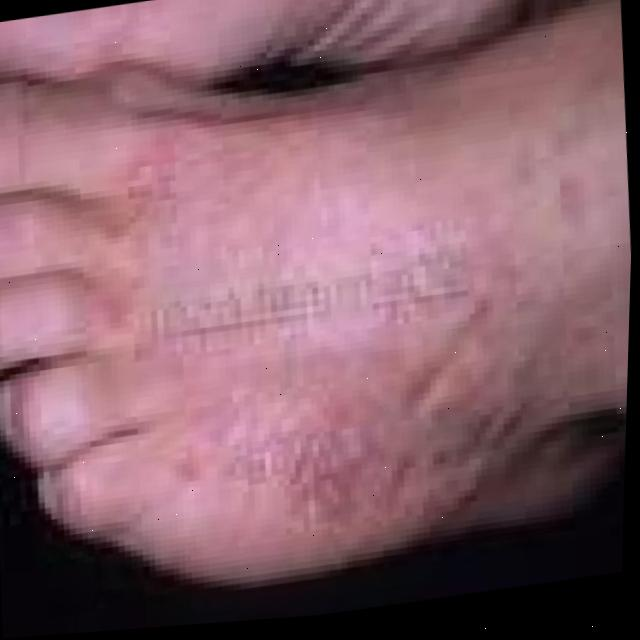Melasma: (156, 360, 397, 552)
